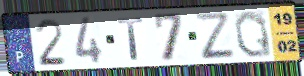2: (33, 17, 67, 68)
4: (73, 16, 105, 66)
7: (153, 12, 186, 63)
Q: (232, 8, 274, 59)
T: (115, 15, 146, 62)
Z: (192, 11, 237, 61)
